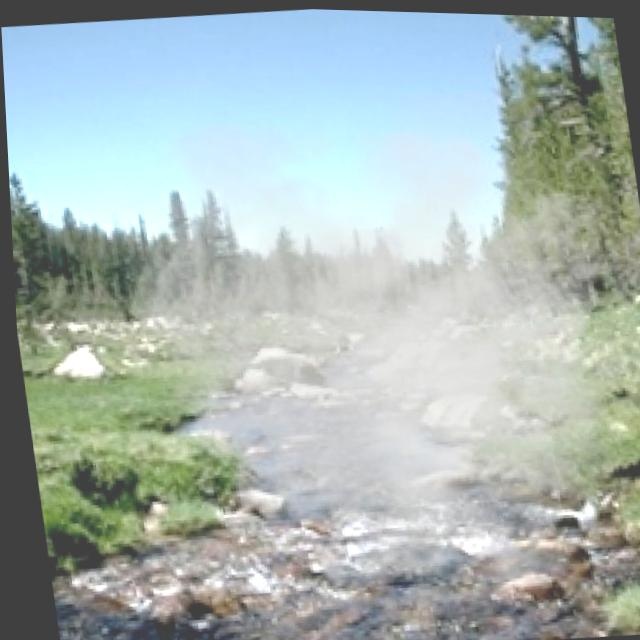Smoke: (80, 80, 640, 636)
